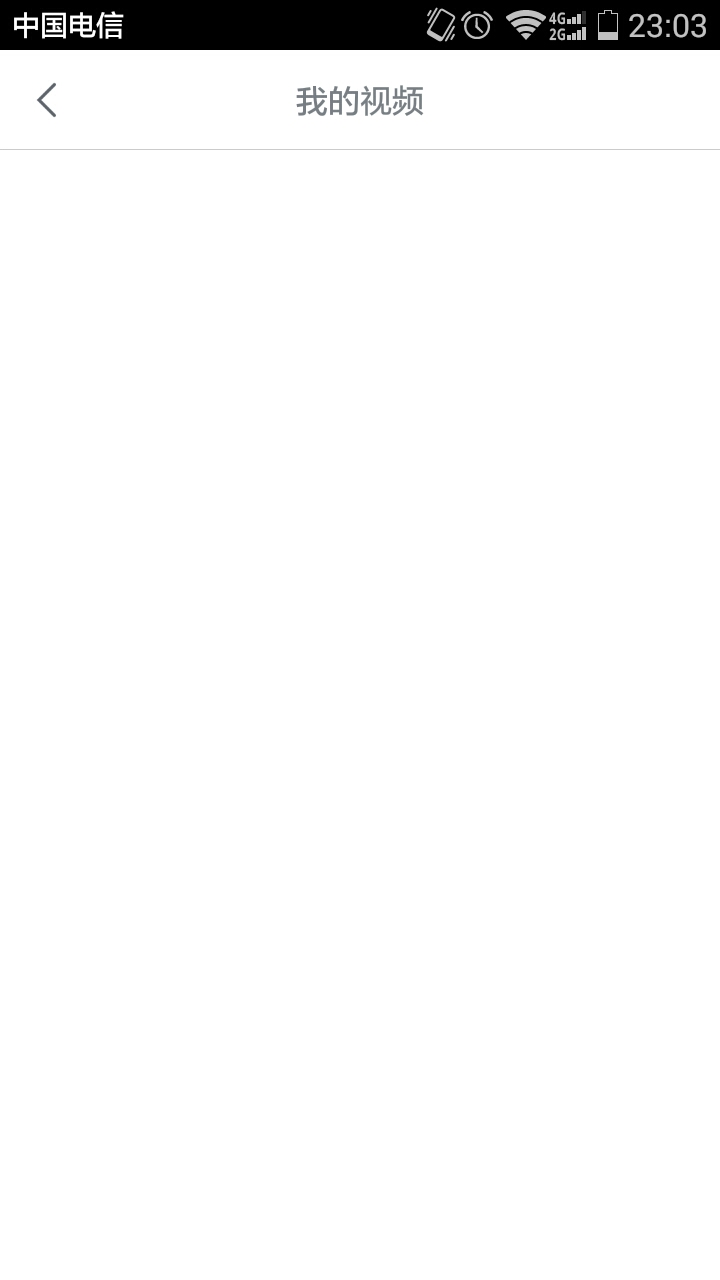imgbutton: (13, 65, 77, 130)
